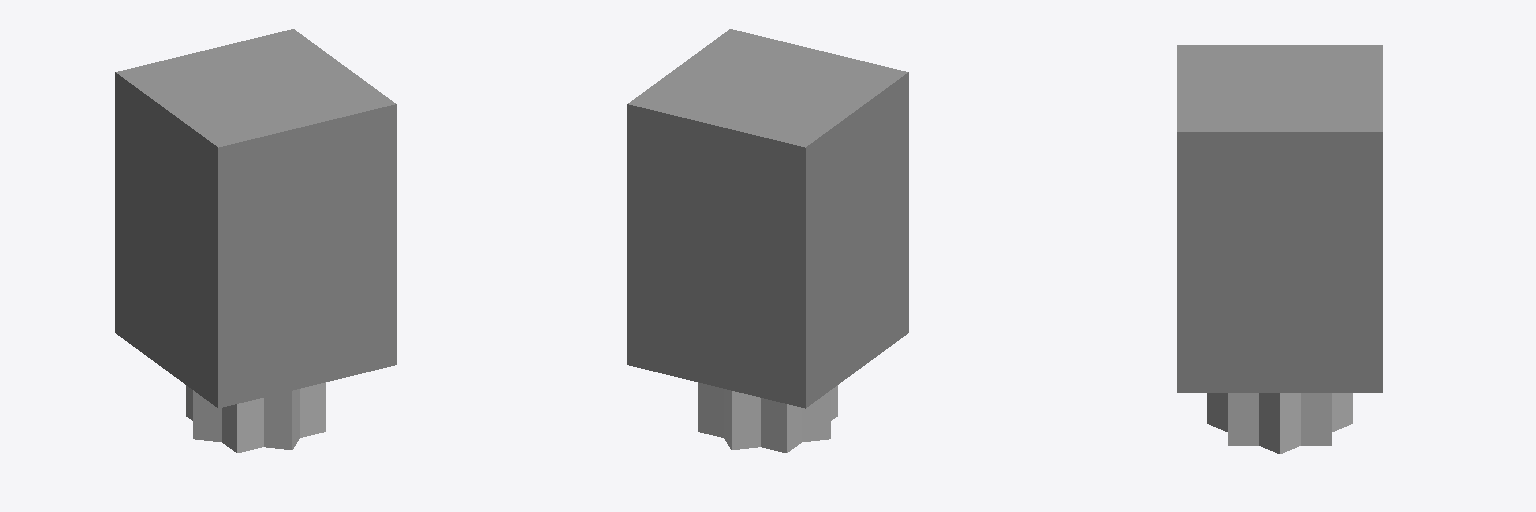
File: panemoneshaft.obj
3 views of the same model, side by side, from view 1: azimuth 30°, elevation 25°; view 2: azimuth 150°, elevation 25°; view 3: azimuth 270°, elevation 25° (orthographic).
Visible parts, largest first — view 1: Cube.005_Cube.035, shaft45.003_Cube.030; view 2: Cube.005_Cube.035, shaft45.003_Cube.030; view 3: Cube.005_Cube.035, shaft45.003_Cube.030.
Part boxes in pixels (x1,y1,x2,y2): Cube.005_Cube.035: (115, 29, 396, 408); shaft45.003_Cube.030: (186, 382, 325, 452); Cube.005_Cube.035: (627, 29, 908, 408); shaft45.003_Cube.030: (698, 382, 837, 452); Cube.005_Cube.035: (1177, 45, 1382, 392); shaft45.003_Cube.030: (1207, 393, 1352, 453).
Bounding box in the file's own units: 0.625 × 1.12 × 0.625.